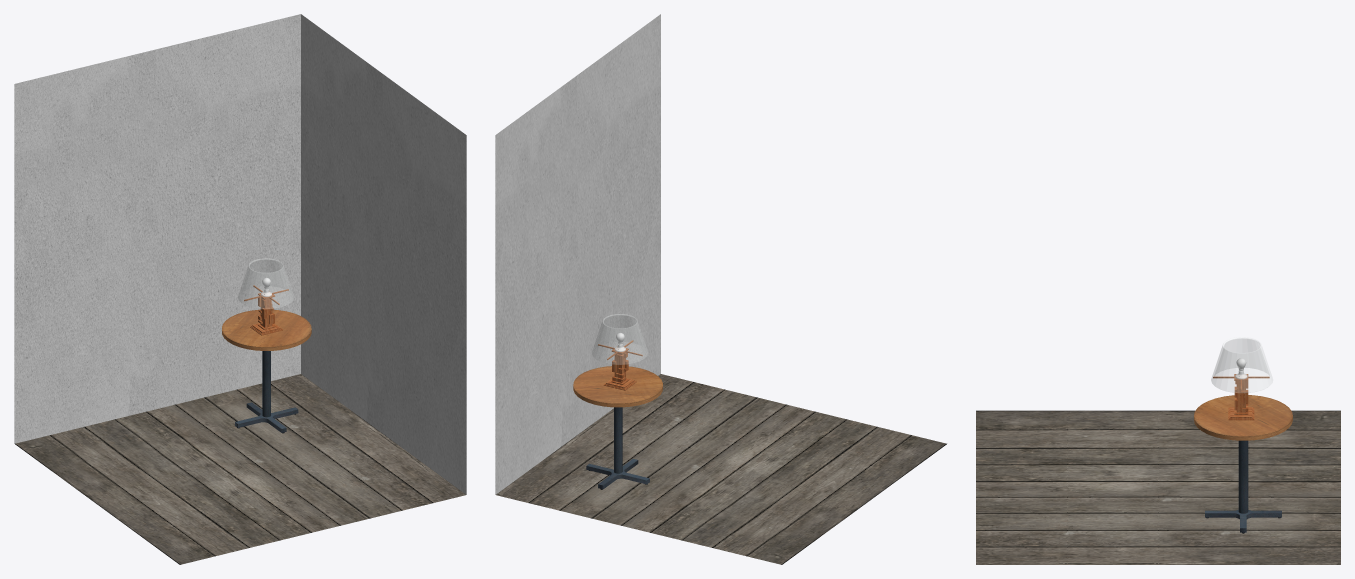
3 renders of one model, left to right at view 1: azimuth 30°, elevation 25°; view 2: azimuth 150°, elevation 25°; view 3: azimuth 270°, elevation 25°, orthographic. The views are drawn at different scales.
Visible parts, largest first — view 1: Plane003, Plane002, Plane001, LPTable, Componen01; view 2: Plane002, Plane001, LPTable, Componen01; view 3: Plane001, LPTable, Componen01, Componen03.
Part boxes in pixels (x1,y1,x2,y2): Plane003: (14,14,300,443); Plane002: (301,14,466,494); Plane001: (15,374,465,564); LPTable: (222,309,311,433); Componen01: (238,258,293,308); Plane002: (495,14,660,494); Plane001: (496,374,946,564); LPTable: (573,366,662,489); Componen01: (592,314,647,364); Plane001: (976,410,1340,564); LPTable: (1194,395,1292,533); Componen01: (1211,337,1272,392); Componen03: (1234,374,1248,414).
Bounding box in the file's own units: 2.54 × 3.05 × 2.54.
9 materials, 4 textured.
